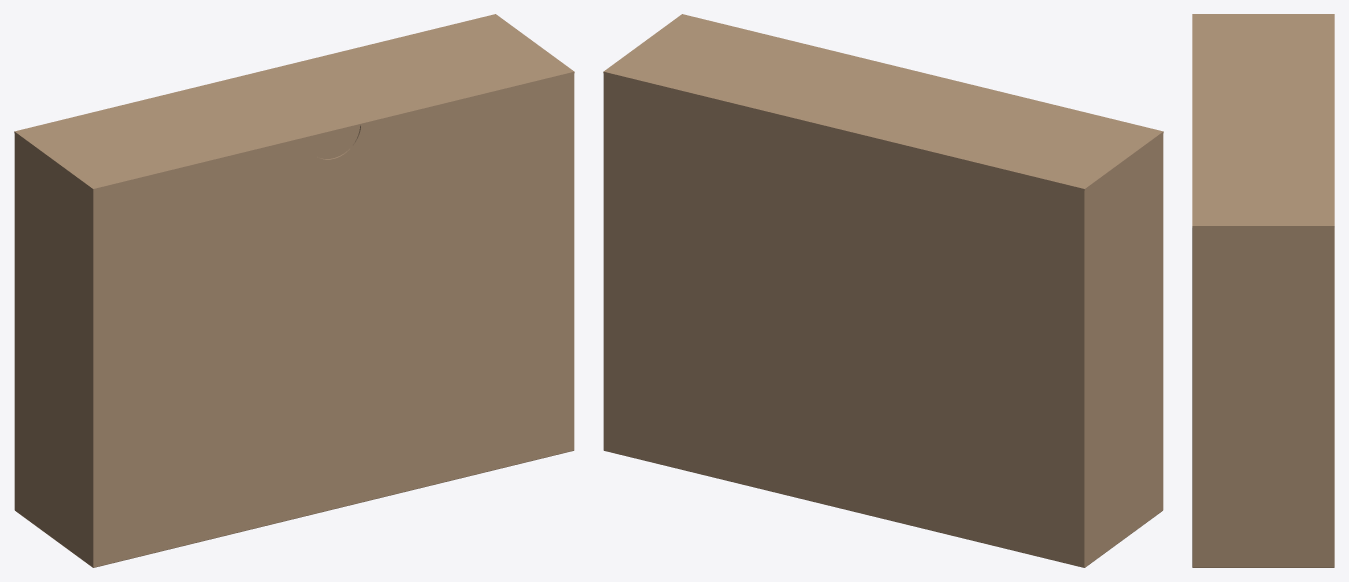
The model's file is combo-preroll-oil-closed.glb.
3 views of the same model, side by side, from view 1: azimuth 30°, elevation 25°; view 2: azimuth 150°, elevation 25°; view 3: azimuth 270°, elevation 25° (orthographic). The views are drawn at different scales.
Visible parts, largest first — view 1: obox_body, obox_lid, obox_tuck; view 2: obox_body, obox_lid; view 3: obox_body, obox_lid.
Part boxes in pixels (x1,y1,x2,y2): obox_body: (14, 73, 574, 567); obox_lid: (14, 14, 574, 190); obox_tuck: (306, 126, 360, 158); obox_body: (603, 72, 1163, 567); obox_lid: (603, 14, 1163, 190); obox_body: (1192, 226, 1334, 567); obox_lid: (1192, 14, 1334, 227).
Size of the model in its own units: 0.1235 by 0.093 by 0.035.
